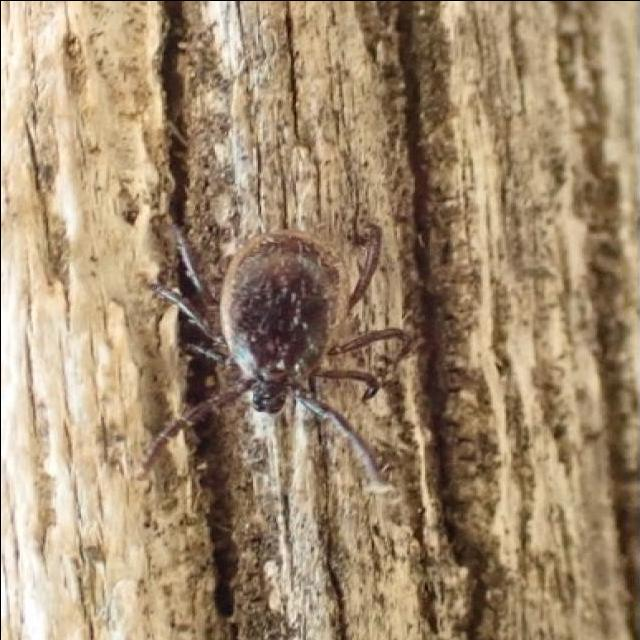Ixodes Ricinus-M: (147, 219, 407, 483)
